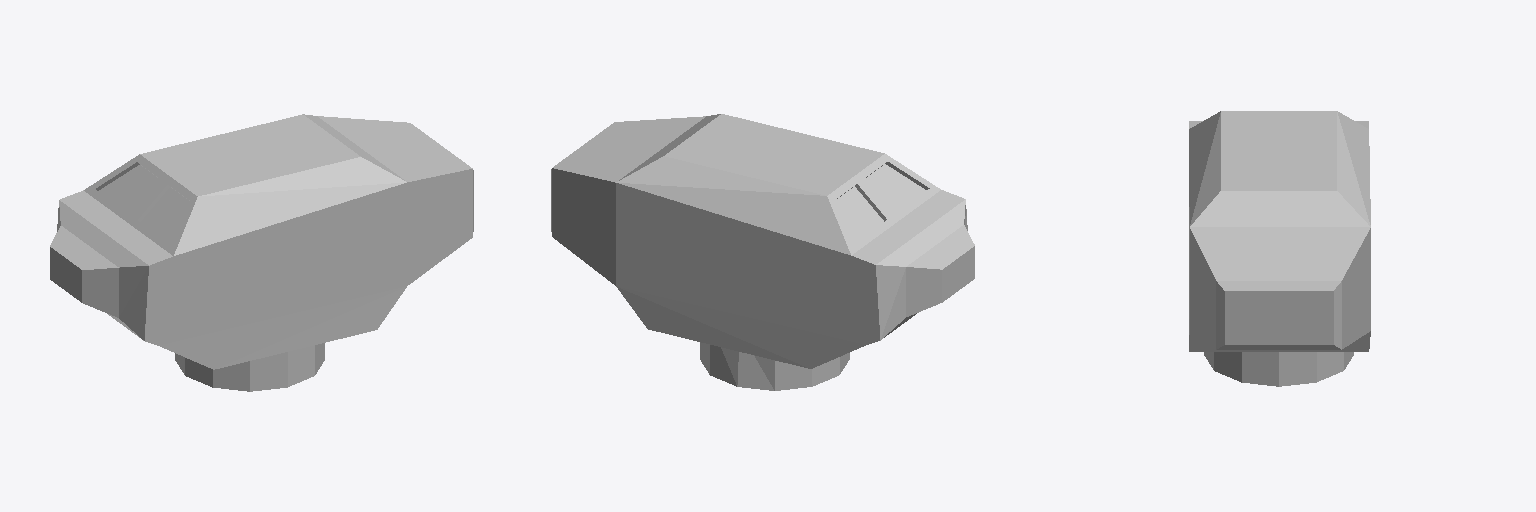
File: Bashka 2.obj
3 views of the same model, side by side, from view 1: azimuth 30°, elevation 25°; view 2: azimuth 150°, elevation 25°; view 3: azimuth 270°, elevation 25° (orthographic).
Parts seen in each view (by area): view 1: Bashka_2; view 2: Bashka_2; view 3: Bashka_2.
Boxes of the visible parts, x1=… form: Bashka_2: x1=50, y1=114, x2=473, y2=391; Bashka_2: x1=551, y1=114, x2=974, y2=390; Bashka_2: x1=1189, y1=111, x2=1370, y2=386.
Size of the model in its own units: 46.11 by 23.68 by 19.09.